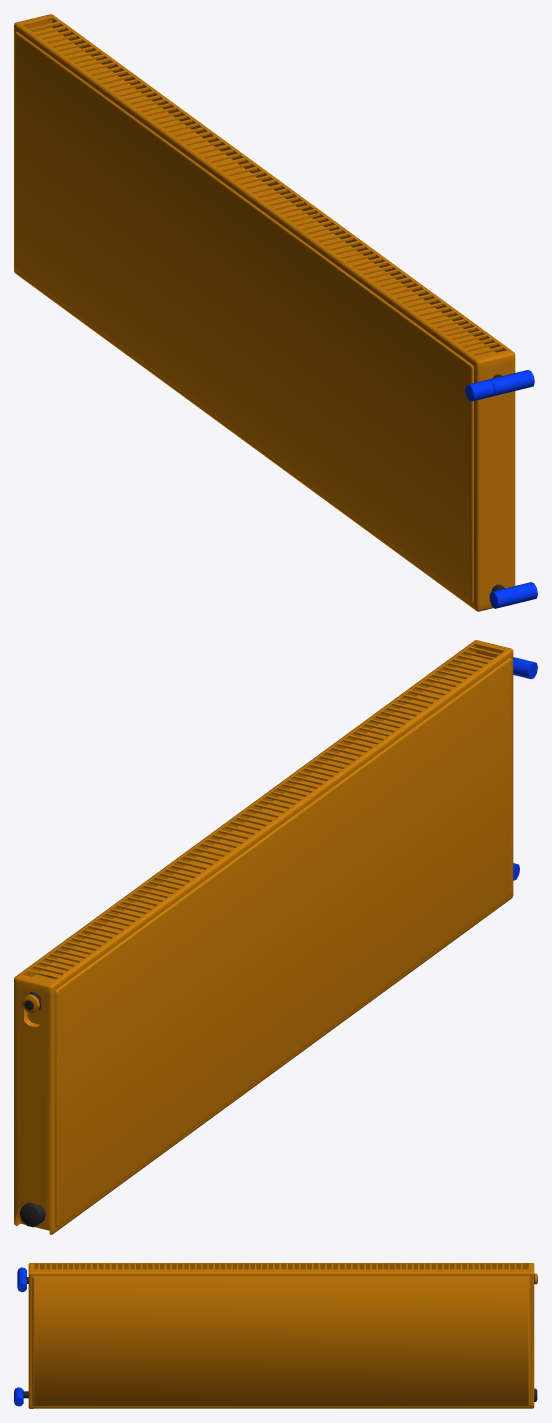
Rendered from radiator_400_1400_KORAD.FBX.
3 views of the same model, one above another, from view 1: azimuth 30°, elevation 25°; view 2: azimuth 150°, elevation 25°; view 3: azimuth 270°, elevation 25° (orthographic). The views are drawn at different scales.
Parts seen in each view (by area): view 1: radiator_400_1400_KORAD; view 2: radiator_400_1400_KORAD; view 3: radiator_400_1400_KORAD.
Part boxes in pixels (x1,y1,x2,y2): radiator_400_1400_KORAD: (14,14,537,611); radiator_400_1400_KORAD: (14,640,537,1234); radiator_400_1400_KORAD: (14,1263,537,1408).
Bounding box in the file's own units: 10.13 × 40 × 139.
